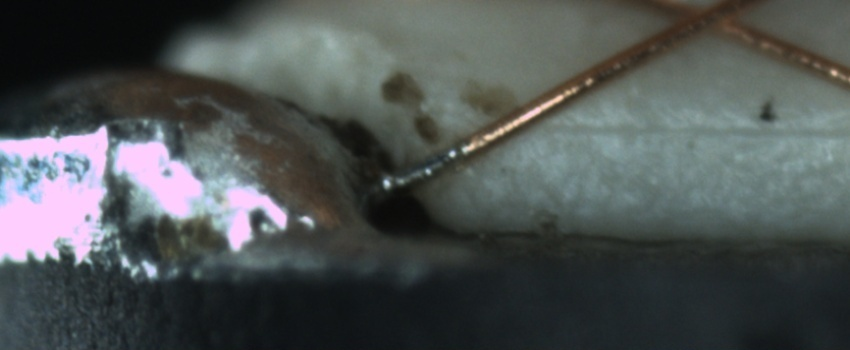CL: (656, 1, 766, 42)
DL: (540, 100, 849, 159)
TS: (379, 141, 473, 194)
